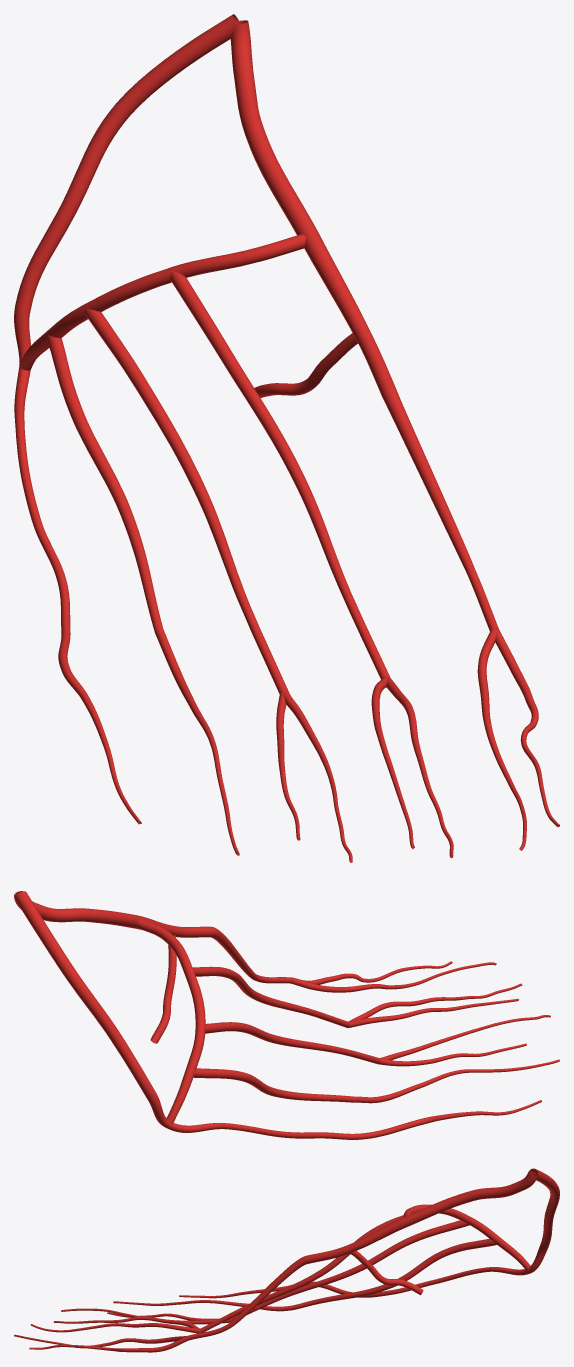
The model's file is circulatorio-dorsalis-pedis-artery-r.glb.
3 views of the same model, one above another, from view 1: azimuth 30°, elevation 25°; view 2: azimuth 150°, elevation 25°; view 3: azimuth 270°, elevation 25° (orthographic). The views are drawn at different scales.
Visible parts, largest first — view 1: Dorsal metatarsal arteries.r, Dorsal digital arteries of foot.r, Dorsalis pedis artery.r, Lateral tarsal artery.r, Arcuate artery.r, Deep plantar artery.r; view 2: Dorsal digital arteries of foot.r, Dorsal metatarsal arteries.r, Lateral tarsal artery.r, Arcuate artery.r, Dorsalis pedis artery.r, Deep plantar artery.r; view 3: Dorsal digital arteries of foot.r, Dorsal metatarsal arteries.r, Dorsalis pedis artery.r, Lateral tarsal artery.r, Arcuate artery.r, Deep plantar artery.r.
Boxes of the visible parts, box(x1,y1,x2,y2) form: Dorsal metatarsal arteries.r: box(46, 270, 498, 693); Dorsal digital arteries of foot.r: box(14, 366, 559, 862); Dorsalis pedis artery.r: box(230, 20, 396, 396); Lateral tarsal artery.r: box(14, 14, 240, 365); Arcuate artery.r: box(19, 234, 305, 370); Deep plantar artery.r: box(254, 333, 357, 397); Dorsal digital arteries of foot.r: box(167, 961, 559, 1139); Dorsal metatarsal arteries.r: box(192, 927, 381, 1102); Lateral tarsal artery.r: box(14, 891, 170, 1128); Arcuate artery.r: box(136, 918, 205, 1124); Dorsalis pedis artery.r: box(14, 891, 213, 937); Deep plantar artery.r: box(150, 935, 176, 1043); Dorsal digital arteries of foot.r: box(14, 1267, 530, 1352); Dorsal metatarsal arteries.r: box(186, 1215, 497, 1340); Dorsalis pedis artery.r: box(305, 1171, 537, 1263); Lateral tarsal artery.r: box(528, 1168, 559, 1273); Arcuate artery.r: box(403, 1204, 530, 1271); Deep plantar artery.r: box(349, 1251, 423, 1295).
Size of the model in its own units: 0.0762 by 0.0744 by 0.1541.
